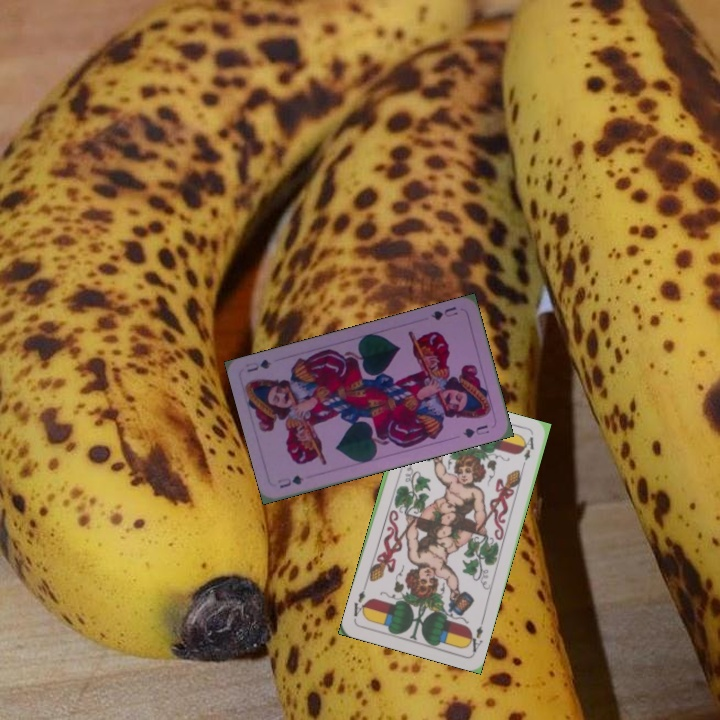EA: (463, 616, 486, 655)
GU: (427, 302, 460, 323), (274, 471, 307, 491)
